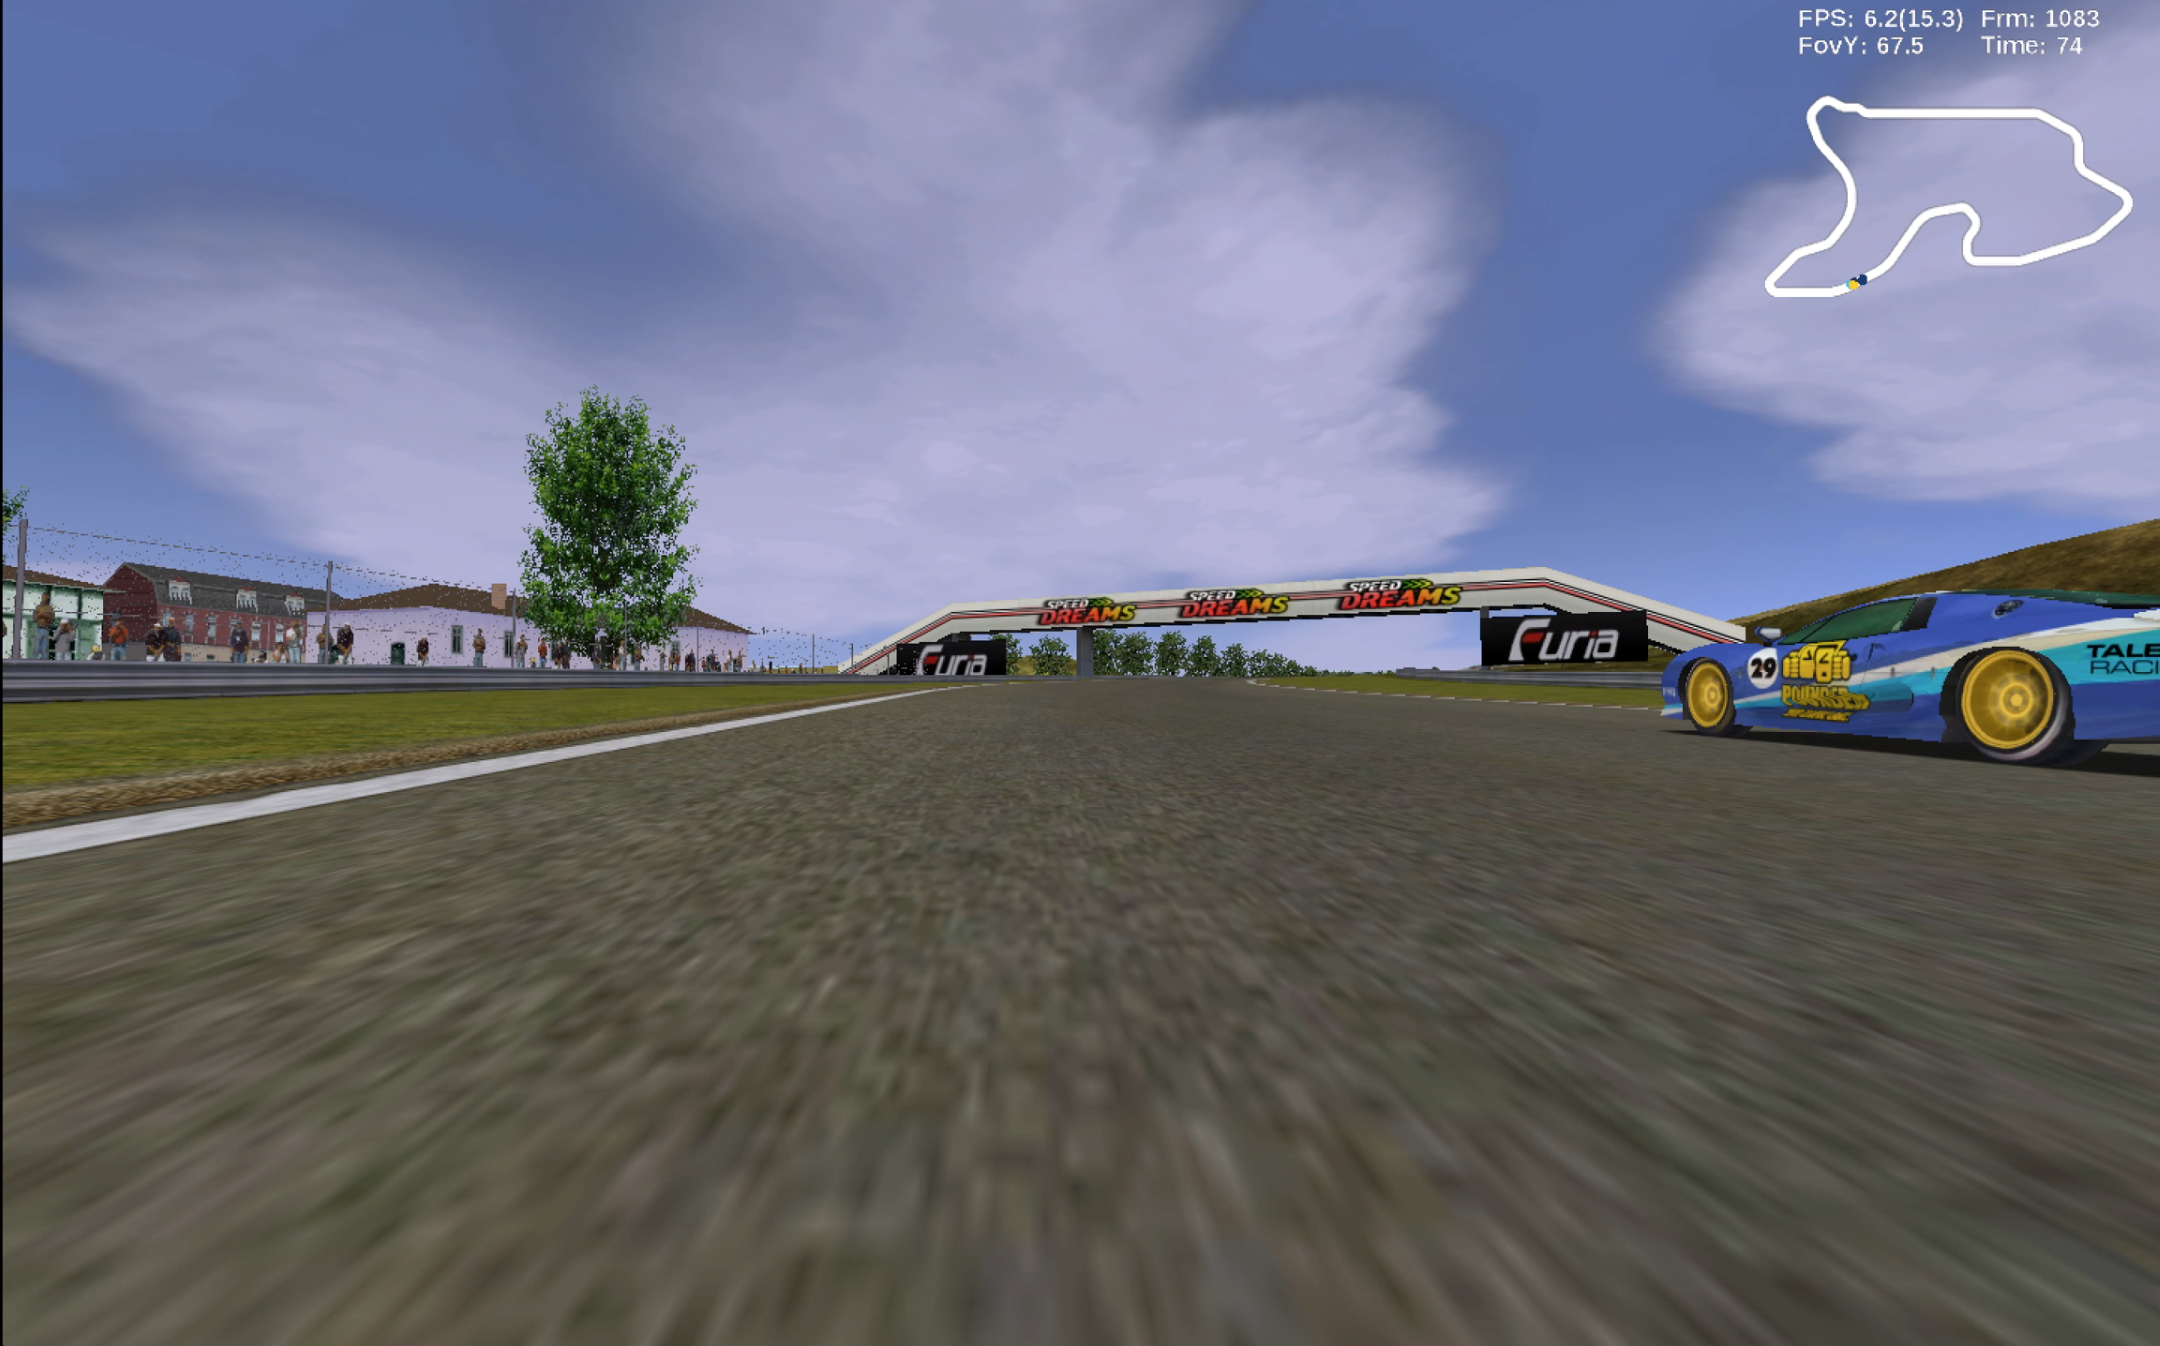Lynx220: (1658, 585, 2160, 771)
